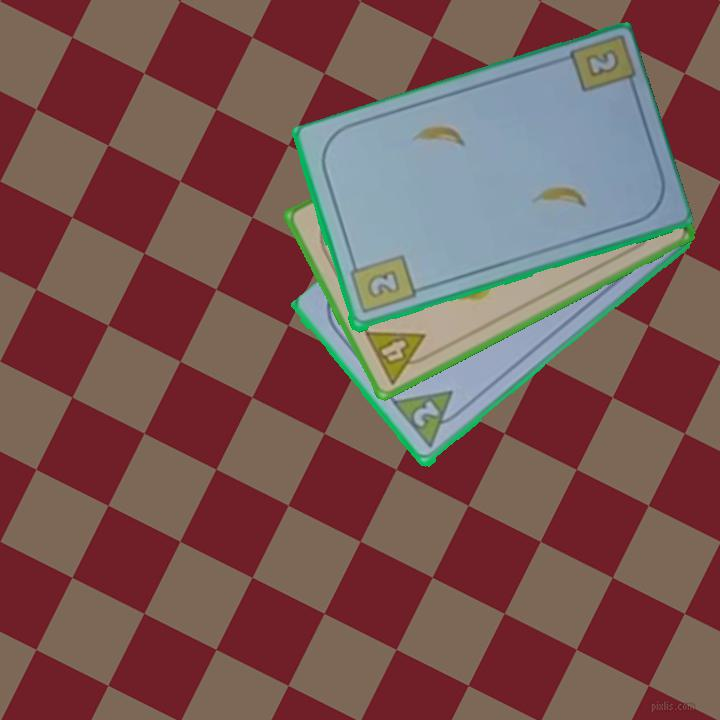2b: (346, 252, 418, 317), (581, 45, 622, 81)
2p: (409, 397, 443, 431)
4p: (360, 327, 437, 387)
